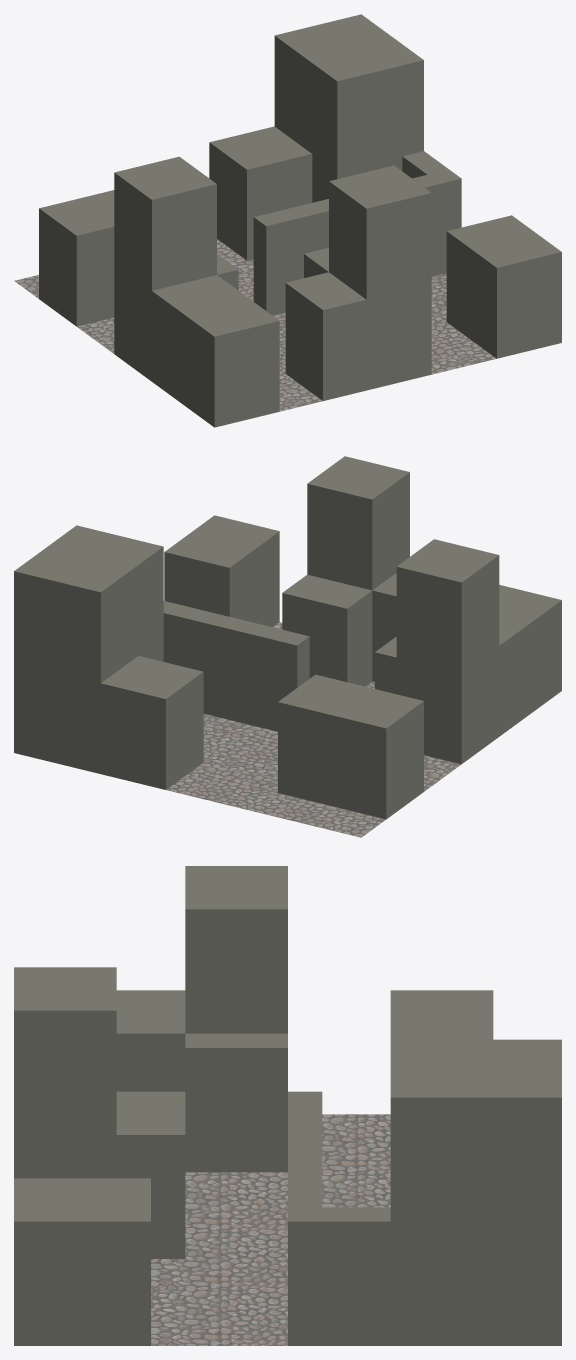
Rendered from tile2.fbx.
3 renders of one model, top to bottom at view 1: azimuth 30°, elevation 25°; view 2: azimuth 150°, elevation 25°; view 3: azimuth 270°, elevation 25°, orthographic. The views are drawn at different scales.
Parts seen in each view (by area): view 1: Tile 1; view 2: Tile 1; view 3: Tile 1.
Boxes of the visible parts, box(x1,y1,x2,y2) form: Tile 1: box(14, 14, 561, 427); Tile 1: box(14, 456, 561, 837); Tile 1: box(14, 866, 561, 1345).
Size of the model in its own units: 1600 by 800 by 1600.
